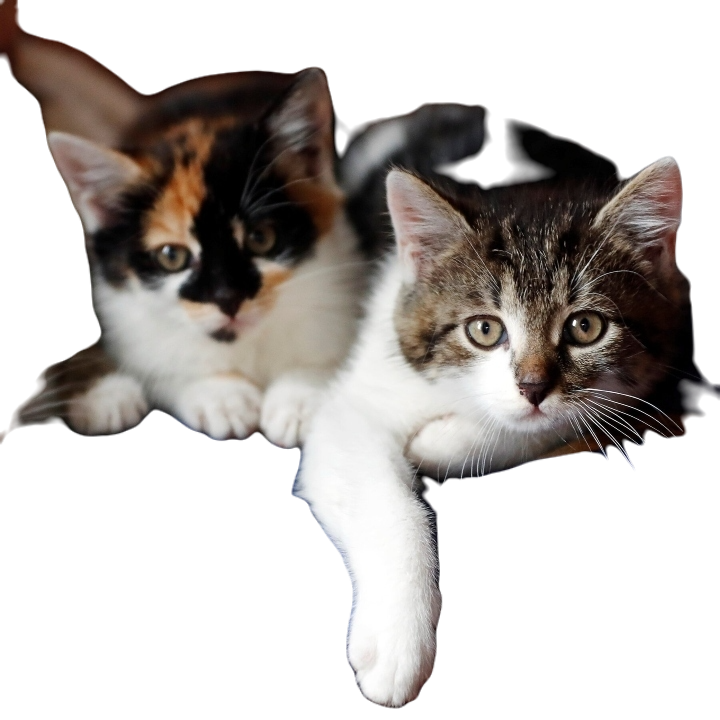Cat: (300, 70, 719, 719)
